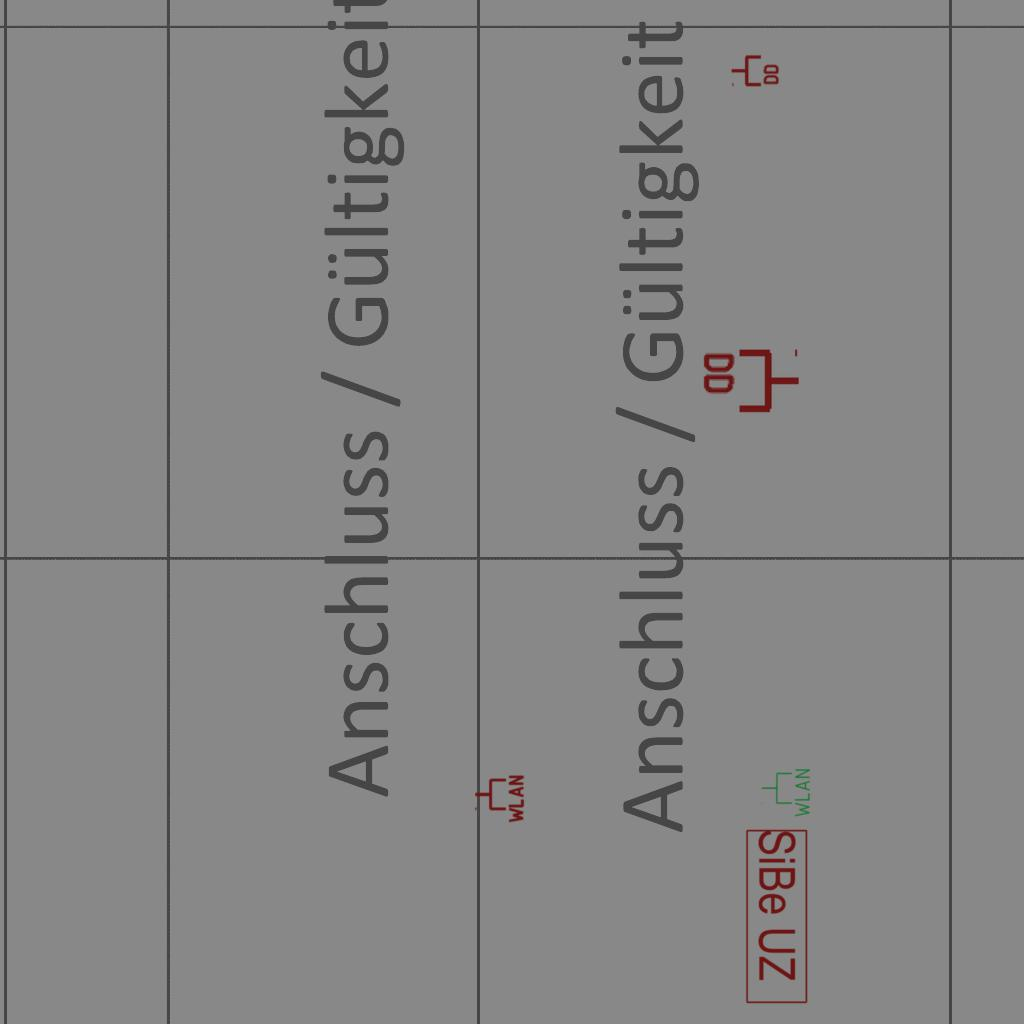Datenanschluss_zweifach: (699, 348, 802, 417), (730, 53, 781, 87)
WLAN: (473, 773, 525, 825), (760, 767, 812, 819)
Zentrale_Sicherheitsbeleuchtung: (744, 828, 809, 1006)
